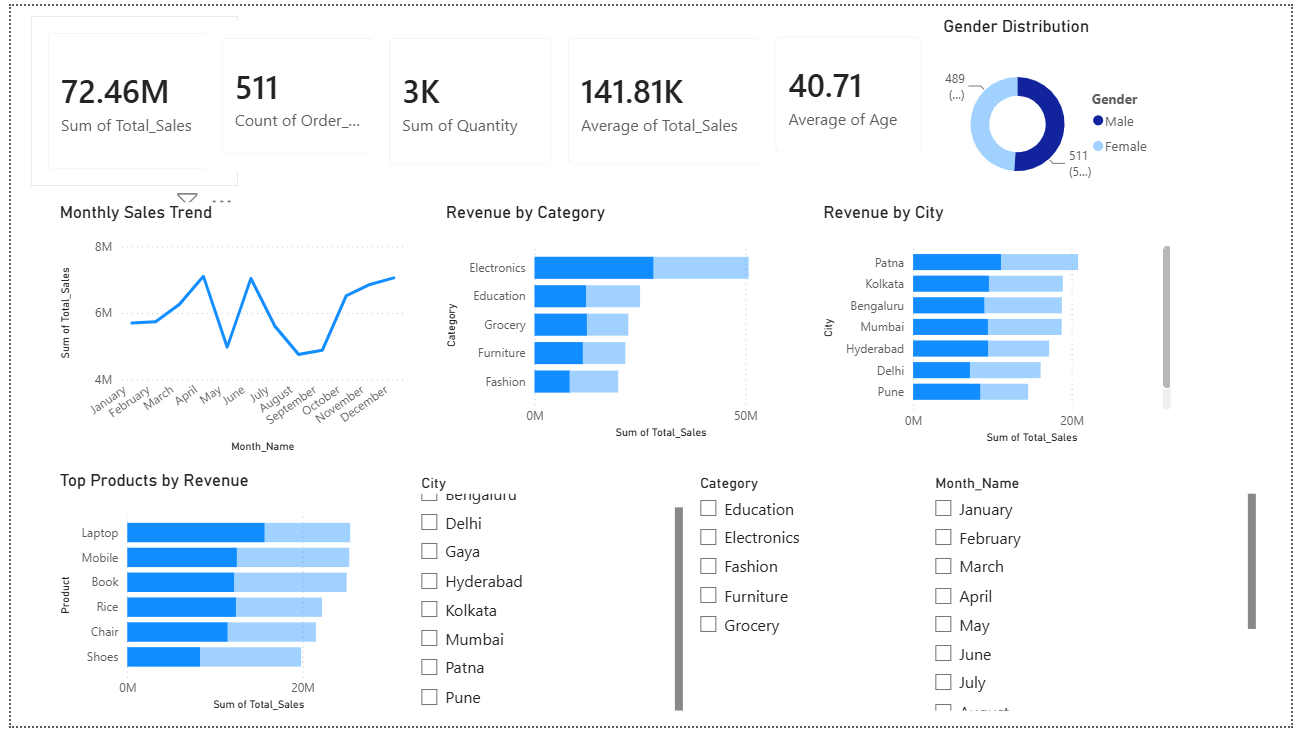

This screenshot's page, from the dashboard's own definition file:
{"tool":"powerbi","page":{"name":"Page 1","canvas":[1280,720],"ordinal":0},"visuals":[{"type":"cardVisual","fields":{"Data":["Sum(Sheet1.Total_Sales)"]},"box":[20,10,206,170],"z":3},{"type":"cardVisual","fields":{"Data":["CountNonNull(Sheet1.Order_ID)"]},"box":[191,14.1,196,150],"z":5},{"type":"cardVisual","fields":{"Data":["Sum(Sheet1.Quantity)"]},"box":[361.5,15.4,196,160],"z":6},{"type":"cardVisual","fields":{"Data":["Avg(Sheet1.Total_Sales)"]},"box":[539.7,15.4,230,160],"z":7},{"type":"cardVisual","fields":{"Data":["Avg(Sheet1.Age)"]},"box":[747.4,14.1,180,150],"z":8},{"type":"lineChart","title":"Monthly Sales Trend","fields":{"Category":["Sheet1.Month_Name"],"Y":["Sum(Sheet1.Total_Sales)"]},"box":[43.8,196.2,317.5,255],"z":9},{"type":"clusteredBarChart","title":"Revenue by Category","fields":{"Category":["Sheet1.Category"],"Y":["Sum(Sheet1.Total_Sales)"]},"box":[378.8,196.2,340,241.2],"z":10},{"type":"clusteredBarChart","title":"Revenue by City","fields":{"Category":["Sheet1.City"],"Y":["Sum(Sheet1.Total_Sales)"]},"box":[747.5,196.2,311.2,246.2],"z":11},{"type":"clusteredBarChart","title":"Top Products by Revenue","fields":{"Category":["Sheet1.Product"],"Y":["Sum(Sheet1.Total_Sales)"]},"box":[43.6,464.1,352.6,246.2],"z":12},{"type":"donutChart","title":"Gender Distribution","fields":{"Category":["Sheet1.Gender"],"Y":["CountNonNull(Sheet1.Order_ID)"]},"box":[927.5,10,224.4,185.9],"z":13},{"type":"slicer","fields":{"Values":["Sheet1.Month_Name"]},"box":[911.2,463.8,338.5,246.2],"z":14},{"type":"slicer","fields":{"Values":["Sheet1.City"]},"box":[397,464,279,246],"z":15},{"type":"slicer","fields":{"Values":["Sheet1.Category"]},"box":[676,464,235,246],"z":16}]}

Visuals, with their boxes in screenshot pixels (x1, y1, x2, y2), scaled from the page's 1280x720 canvas onto the 1296x730 screenshot:
cardVisual - Sum(Sheet1.Total_Sales): rect(20, 10, 229, 182)
cardVisual - CountNonNull(Sheet1.Order_ID): rect(193, 14, 392, 166)
cardVisual - Sum(Sheet1.Quantity): rect(366, 16, 564, 178)
cardVisual - Avg(Sheet1.Total_Sales): rect(546, 16, 779, 178)
cardVisual - Avg(Sheet1.Age): rect(757, 14, 939, 166)
"Monthly Sales Trend" lineChart: rect(44, 199, 366, 457)
"Revenue by Category" clusteredBarChart: rect(384, 199, 728, 443)
"Revenue by City" clusteredBarChart: rect(757, 199, 1072, 449)
"Top Products by Revenue" clusteredBarChart: rect(44, 471, 401, 720)
"Gender Distribution" donutChart: rect(939, 10, 1166, 199)
slicer - Sheet1.Month_Name: rect(923, 470, 1265, 720)
slicer - Sheet1.City: rect(402, 470, 684, 720)
slicer - Sheet1.Category: rect(684, 470, 922, 720)
